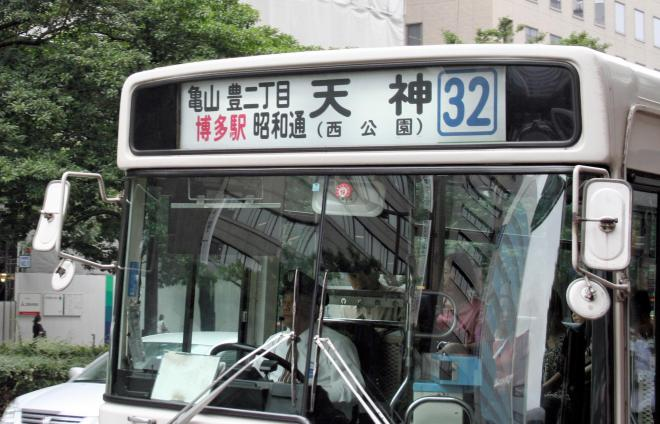destination: (177, 64, 508, 150)
